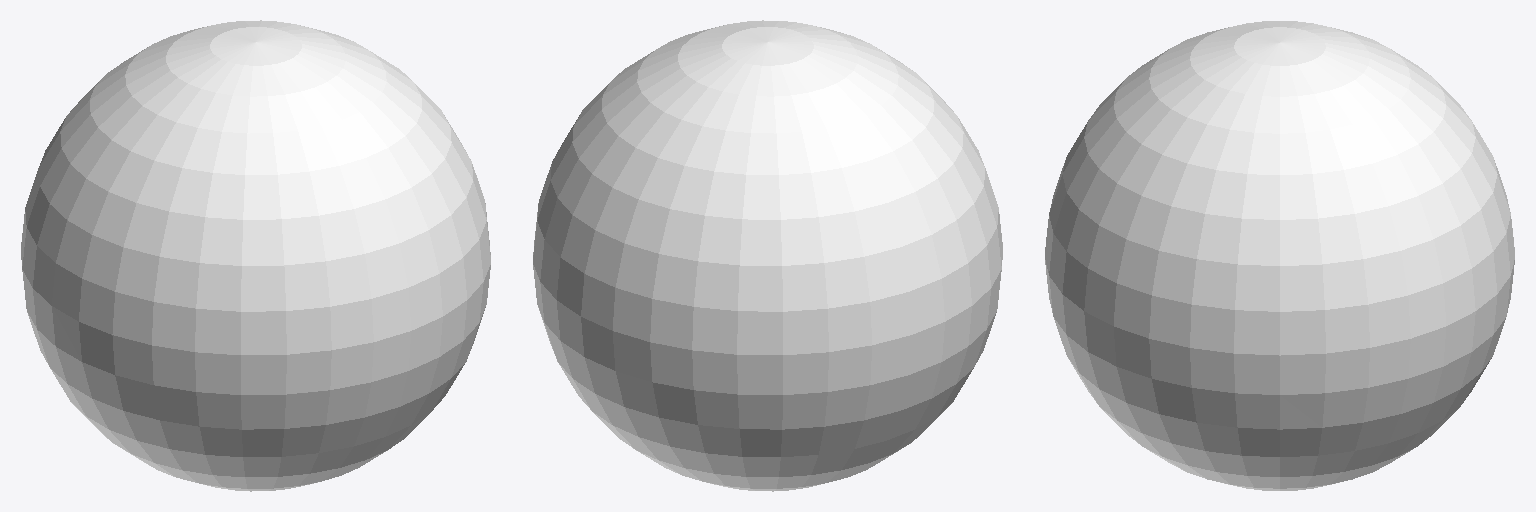
The robot description file, URDF, robot "robot":
<?xml version="1.0" ?>
<robot name="robot">
  <link name="base_link">
    <contact>
      <rolling_friction value="0.001"/>
      <spinning_friction value="0.001"/>
    </contact>
    <inertial>
      <origin rpy="0 0 0" xyz="0 0 0"/>
       <mass value=".1"/>
       <inertia ixx="1" ixy="0" ixz="0" iyy="1" iyz="0" izz="1"/>
    </inertial>
    <visual>
      <origin rpy="0 0 0" xyz="0 0 0"/>
      <geometry>
        <mesh filename="sphere.stl" scale="1.0 1.0 1.0"/>
        <!-- <mesh filename="textured_sphere_smooth.obj" scale="0.03 0.03 1"/>       -->
      </geometry>
      <material name="white">
        <color rgba="1 1 1 1"/>
      </material>
    </visual>
    <collision>
      <origin rpy="0 0 0" xyz="0 0 0"/>
      <geometry>
        <mesh filename="sphere.stl" scale="1.0 1.0 1.0"/>
        <!-- <mesh filename="textured_sphere_smooth.obj" scale="0.03 0.03 1"/>       -->
      </geometry>
    </collision>
  </link>
</robot>

--- Render facts (derived) ---
3 views of the same robot in one strip: view 1: azimuth 30°, elevation 25°; view 2: azimuth 150°, elevation 25°; view 3: azimuth 270°, elevation 25° (orthographic).
Model robot with 1 links and 0 joints (none), rooted at base_link, posed every joint at zero.
Links seen in each view (by area): view 1: base_link; view 2: base_link; view 3: base_link.
Link boxes in pixels (x1,y1,x2,y2): base_link: (21,20,490,491); base_link: (533,20,1002,491); base_link: (1045,21,1514,490).
Bounding box of the posed robot: 0.0063 × 0.0063 × 0.0063 m (x, y, z).
Meshes: 1 distinct files referenced, 1 mesh visuals loaded (1 binary STL).